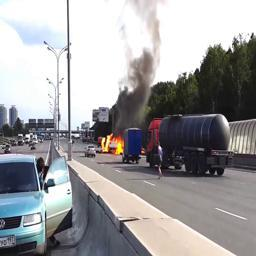fire: (102, 132, 124, 155)
